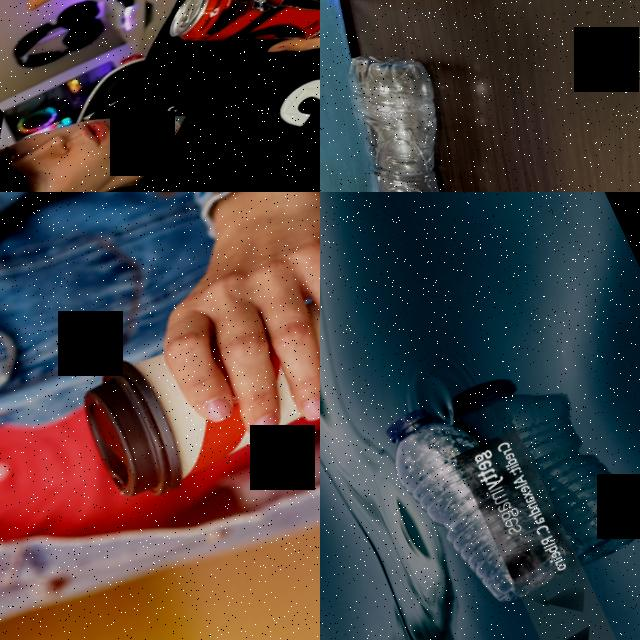bottle: (370, 372, 580, 624), (320, 29, 553, 192)
can: (155, 0, 320, 96)
cup: (65, 258, 320, 513)
